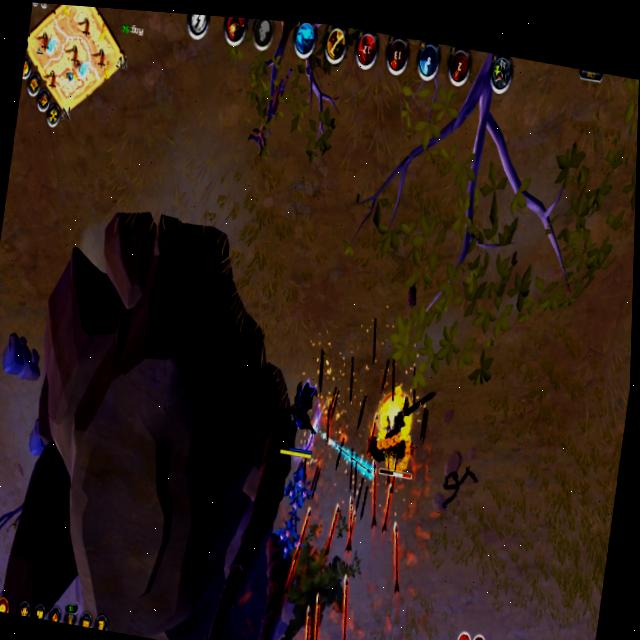hide: (280, 450, 320, 517), (270, 510, 306, 569)
ore: (364, 376, 424, 485)
red: (278, 371, 324, 465)
